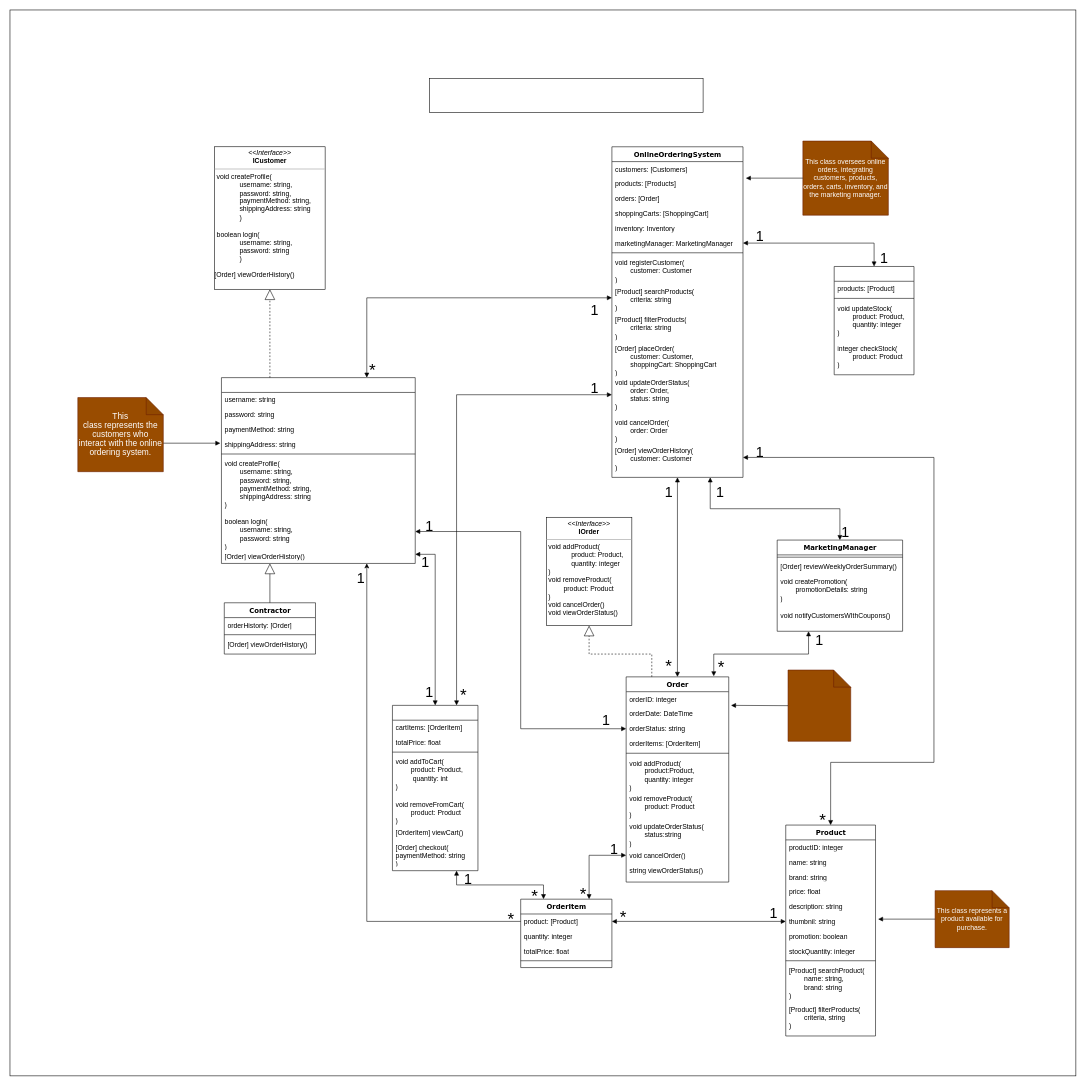
The diagram is 1086 pixels wide and 1086 high, and some of its shapes have lost their labels. The shapes that lost their labels are listed below. From the top down, each one's box as (x1, y1, x2, y2) in pixels, then its label:
(429, 78, 703, 113): Leckie's Choice Class Diagram
(834, 266, 914, 375): Inventory
(221, 377, 415, 563): Customer
(787, 669, 851, 741): This class represents an order placed by a customer.
(392, 705, 478, 871): ShoppingCart
